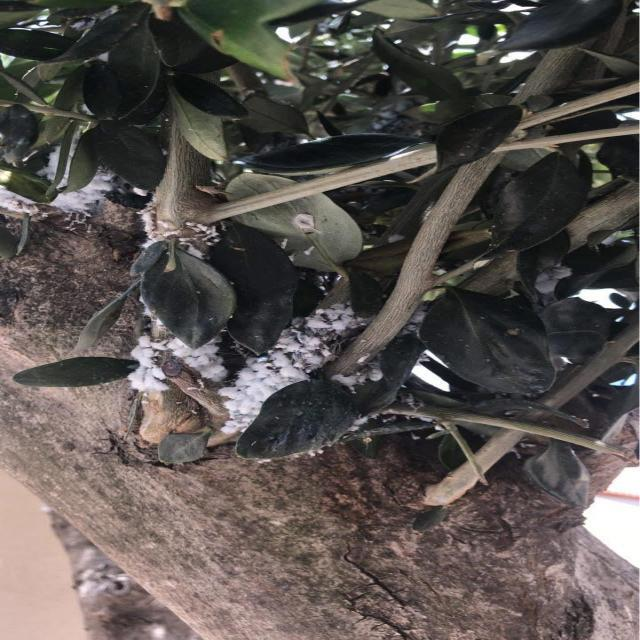Psyllid: (210, 302, 366, 446), (128, 334, 228, 391), (50, 166, 128, 226), (138, 202, 218, 259), (324, 355, 383, 397), (0, 184, 47, 220), (38, 146, 58, 180)
